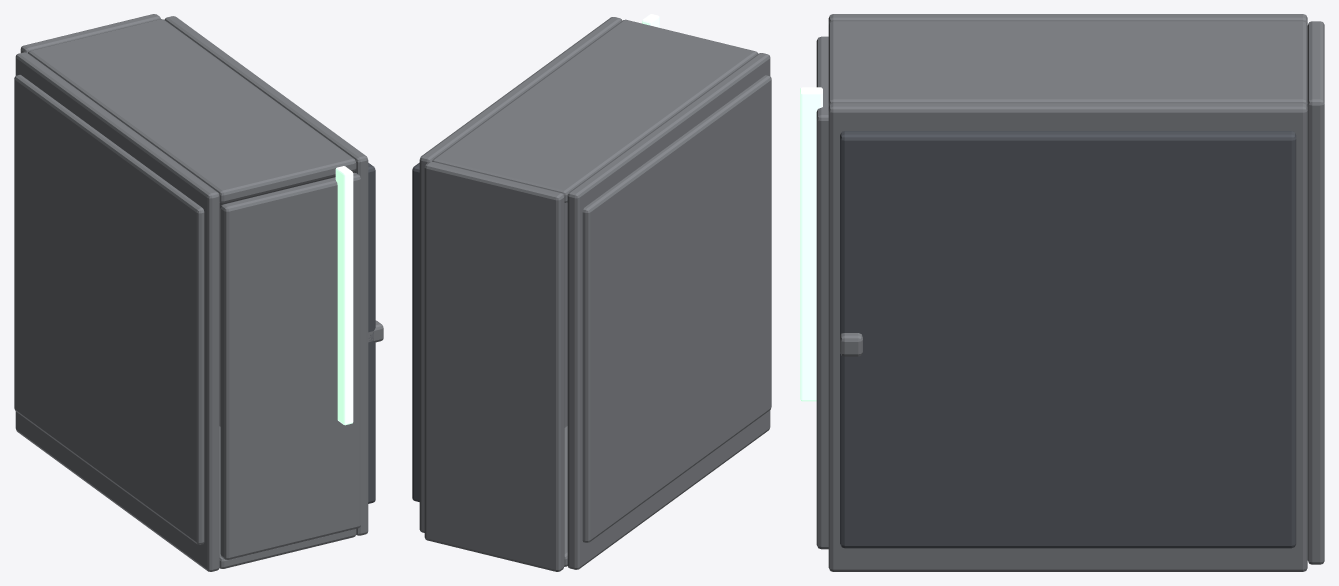
Rendered from computer_case.glb.
3 views of the same model, side by side, from view 1: azimuth 30°, elevation 25°; view 2: azimuth 150°, elevation 25°; view 3: azimuth 270°, elevation 25° (orthographic). The views are drawn at different scales.
Parts seen in each view (by area): view 1: sideL.001, pc_front, pc_body_top, pc_body_left, pc_body_right, power_led, part_sidePanel__computer_case, pc_body_bottom, pc_body_back; view 2: sideL.001, pc_body_back, pc_body_top, pc_body_left, pc_body_right, part_sidePanel__computer_case, pc_body_bottom; view 3: part_sidePanel__computer_case, pc_body_top, pc_body_right, pc_body_back, pc_front, power_led, pc_body_left.
Boxes of the visible parts, x1,y1,x2,y2 form: sideL.001: (14, 74, 204, 544); pc_front: (220, 172, 360, 559); pc_body_top: (28, 19, 356, 203); pc_body_left: (15, 52, 219, 571); pc_body_right: (164, 16, 368, 535); power_led: (335, 166, 353, 425); part_sidePanel__computer_case: (368, 163, 383, 503); pc_body_bottom: (219, 426, 356, 568); pc_body_back: (20, 14, 160, 52); sideL.001: (582, 75, 771, 542); pc_body_back: (424, 161, 564, 571); pc_body_top: (432, 19, 757, 202); pc_body_left: (567, 53, 770, 569); pc_body_right: (419, 17, 622, 532); part_sidePanel__computer_case: (412, 162, 419, 501); pc_body_bottom: (564, 425, 567, 566); part_sidePanel__computer_case: (840, 131, 1296, 548); pc_body_top: (828, 21, 1307, 106); pc_body_right: (828, 103, 1307, 571); pc_body_back: (1307, 21, 1324, 564); pc_front: (816, 36, 828, 549); power_led: (800, 87, 822, 401); pc_body_left: (828, 14, 1307, 24).
Size of the model in its own units: 0.2325 by 0.45 by 0.46.
